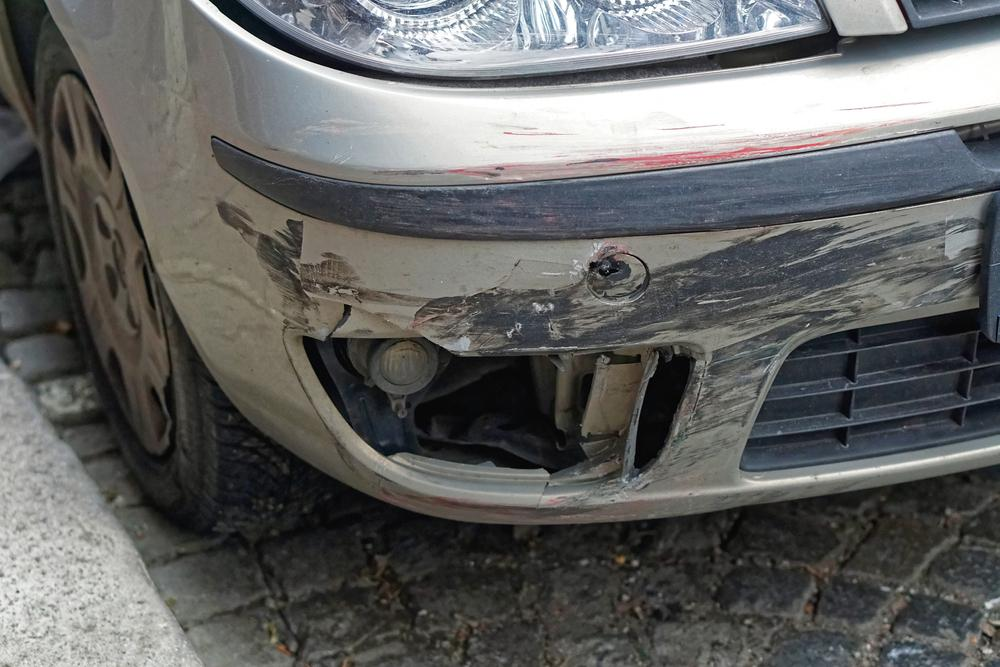crack: (323, 303, 353, 340), (536, 469, 551, 508)
scratch: (215, 195, 990, 521), (299, 101, 955, 187)
